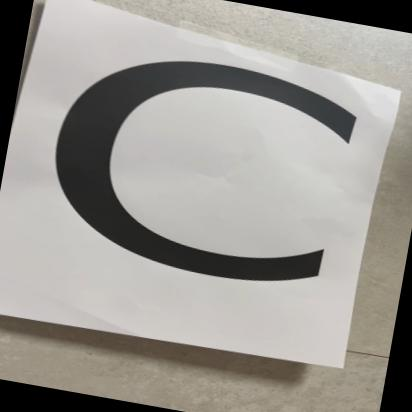seat: (0, 0, 394, 381)
